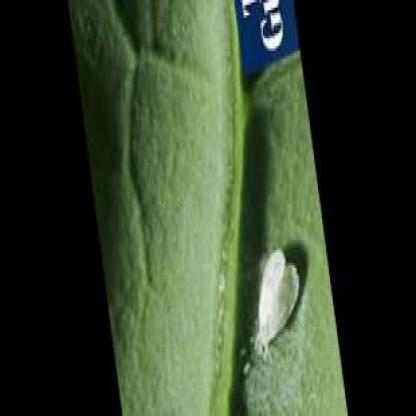whitefly: (256, 254, 298, 350)
